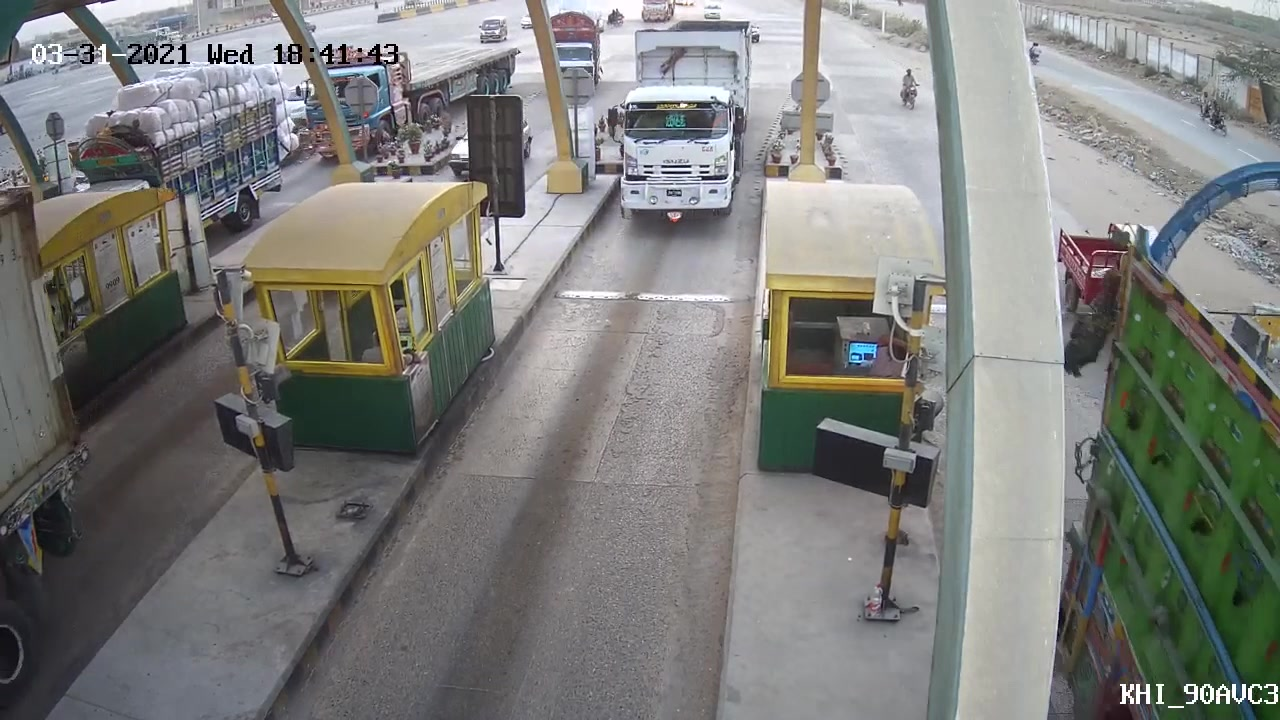F5: (610, 11, 763, 235)
